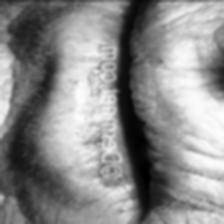Potentially Malignant Skin Tumors: (75, 63, 111, 193)
